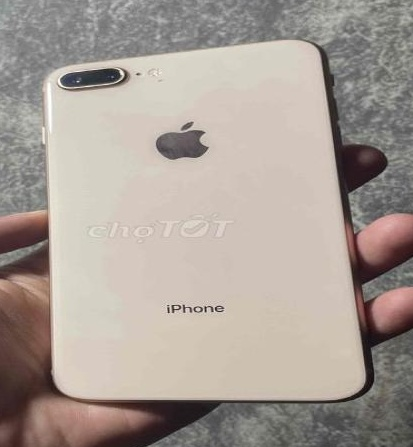scratch: (153, 127, 207, 157), (52, 68, 129, 87), (156, 75, 169, 84)
